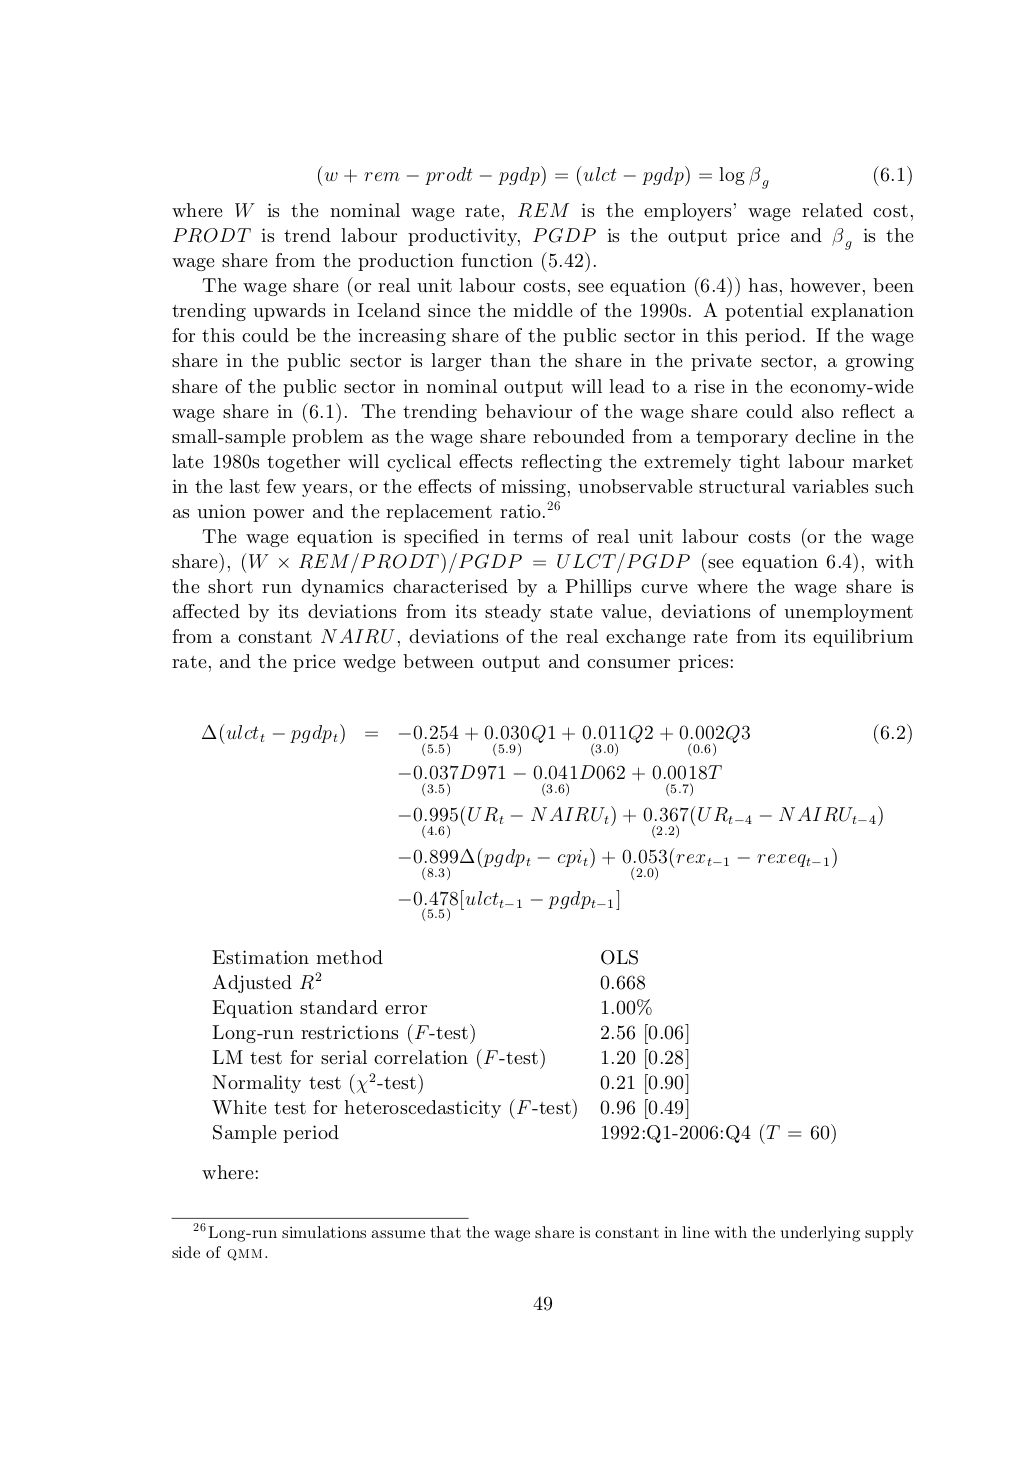Table: (212, 950, 835, 1143)
formula: (202, 723, 911, 757), (398, 805, 882, 839), (398, 847, 837, 881), (318, 165, 911, 189), (398, 765, 722, 796), (398, 889, 619, 922)
